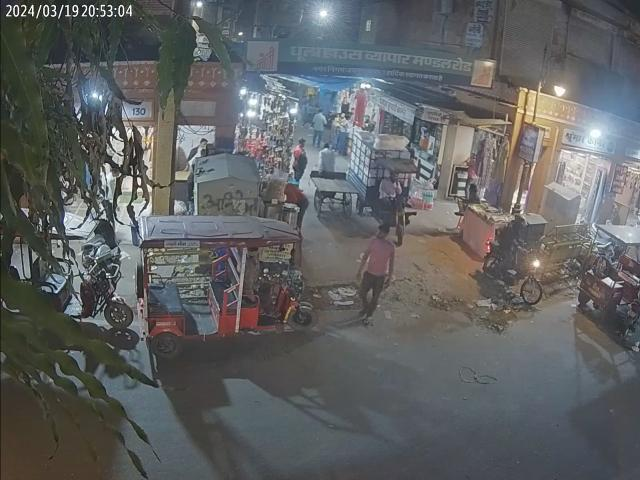auto: (140, 208, 314, 342)
lorry: (350, 128, 420, 240)
motorbike-rider: (485, 217, 542, 304)
person: (353, 225, 400, 322)
rickshow: (310, 144, 354, 217)
